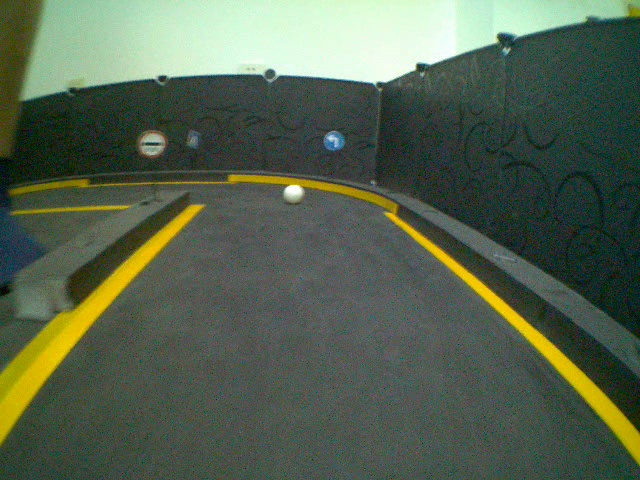ball: (282, 183, 305, 206)
